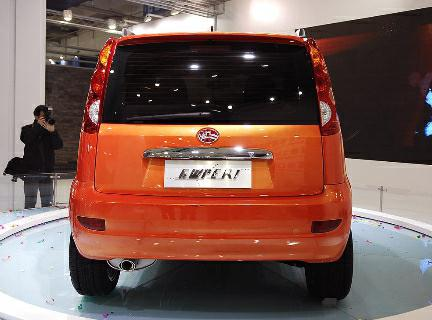长城-C20R: (62, 26, 358, 302)
